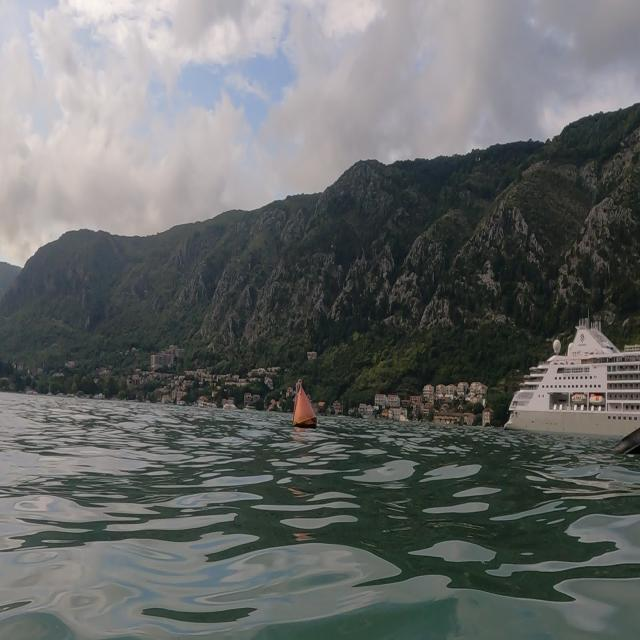boat: (469, 294, 640, 464)
buoy: (281, 370, 321, 434)
